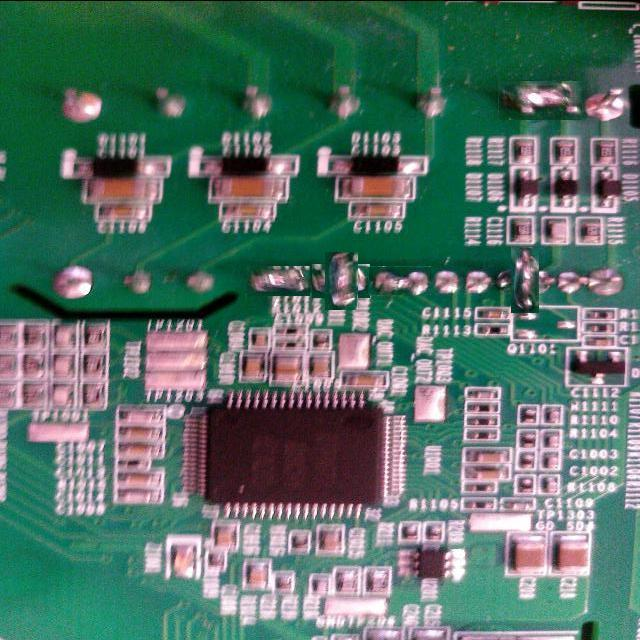Short_circuit: (498, 80, 582, 120), (502, 256, 549, 304), (318, 258, 364, 304), (247, 266, 310, 296), (368, 266, 432, 295)
